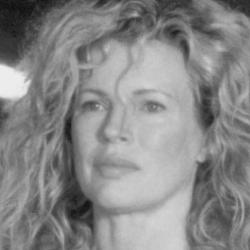face: (16, 10, 250, 228)
